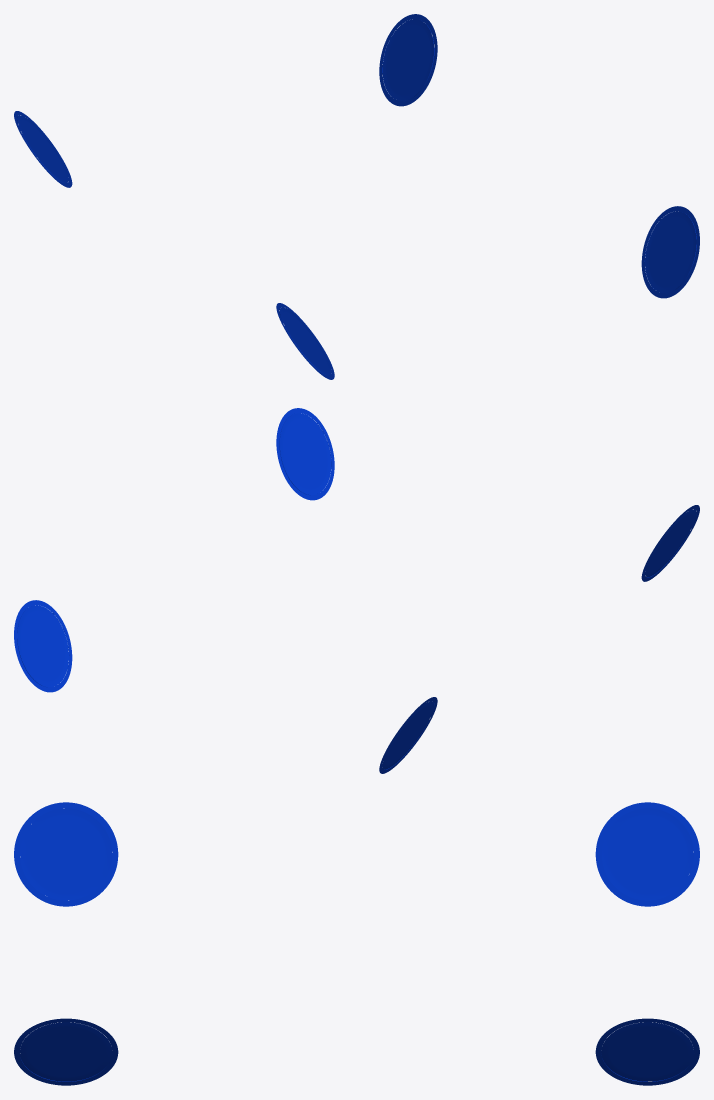
The model's file is deloranWheel.obj.
3 renders of one model, top to bottom at view 1: azimuth 30°, elevation 25°; view 2: azimuth 150°, elevation 25°; view 3: azimuth 270°, elevation 25°, orthographic. The views are drawn at different scales.
Parts seen in each view (by area): view 1: CPDeLorean_EngineFrontL_Mesh.001, CPDeLorean_EngineRearL_Mesh.001, CPDeLorean_EngineFrontR_Mesh.001, CPDeLorean_EngineRearR_Mesh.001; view 2: CPDeLorean_EngineFrontL_Mesh.001, CPDeLorean_EngineRearL_Mesh.001, CPDeLorean_EngineRearR_Mesh.001, CPDeLorean_EngineFrontR_Mesh.001; view 3: CPDeLorean_EngineRearR_Mesh.001, CPDeLorean_EngineFrontR_Mesh.001, CPDeLorean_EngineFrontL_Mesh.001, CPDeLorean_EngineRearL_Mesh.001.
Part boxes in pixels (x1,y1,x2,y2): CPDeLorean_EngineFrontL_Mesh.001: [641, 206, 699, 298]; CPDeLorean_EngineRearL_Mesh.001: [379, 14, 437, 106]; CPDeLorean_EngineFrontR_Mesh.001: [276, 303, 334, 379]; CPDeLorean_EngineRearR_Mesh.001: [14, 111, 72, 187]; CPDeLorean_EngineFrontL_Mesh.001: [276, 408, 334, 500]; CPDeLorean_EngineRearL_Mesh.001: [14, 600, 72, 692]; CPDeLorean_EngineRearR_Mesh.001: [379, 697, 437, 773]; CPDeLorean_EngineFrontR_Mesh.001: [641, 505, 699, 581]; CPDeLorean_EngineRearR_Mesh.001: [595, 802, 699, 906]; CPDeLorean_EngineFrontR_Mesh.001: [14, 802, 118, 906]; CPDeLorean_EngineFrontL_Mesh.001: [14, 1018, 118, 1085]; CPDeLorean_EngineRearL_Mesh.001: [595, 1018, 699, 1085].
Size of the model in its own units: 1.57 by 0.2903 by 2.11.
